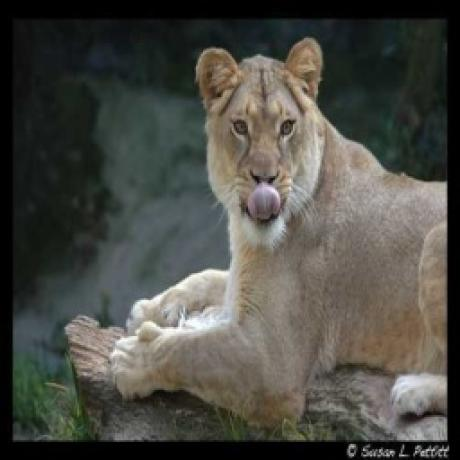Lion: (118, 37, 460, 427)
